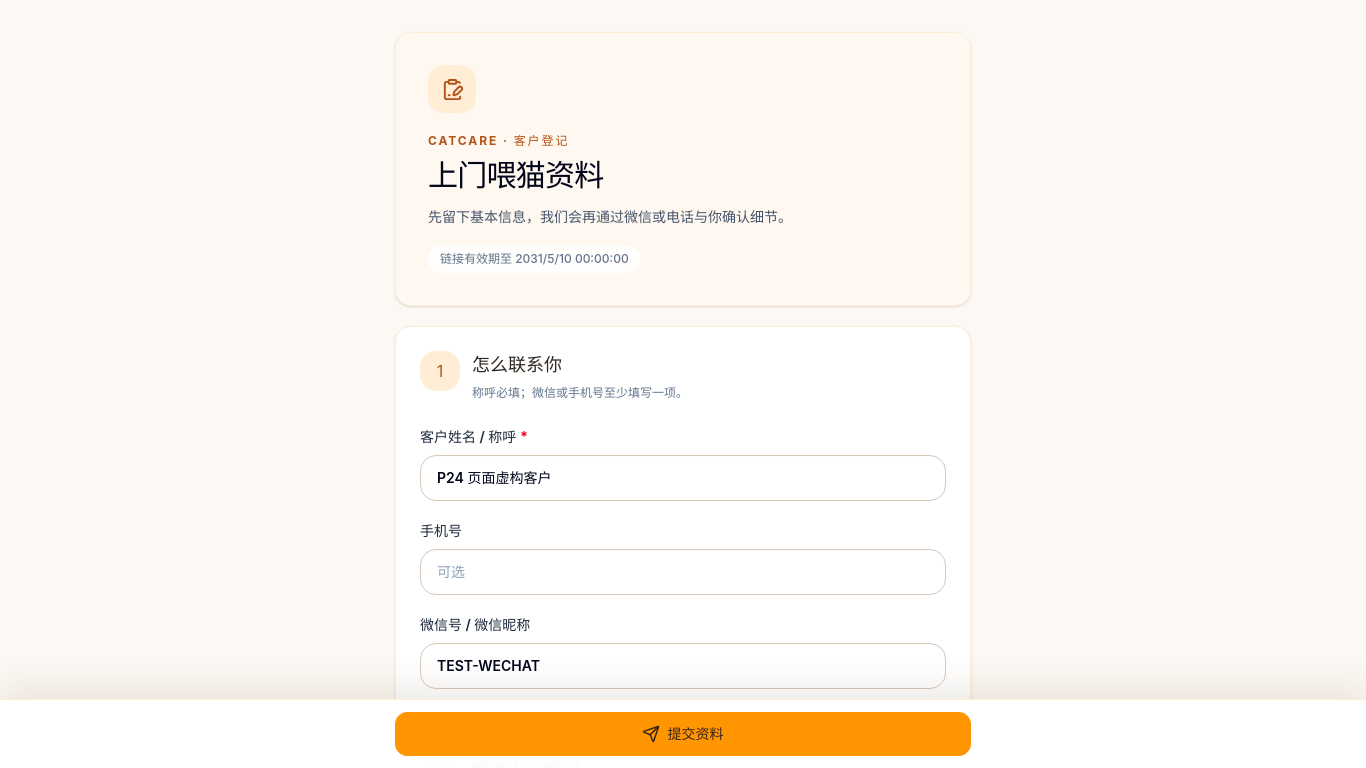
Test: preserves an untouched legacy schedule and submits only after confirmation
Expected: the field showing "P24 页面虚构客户" is shown, [420,455,946,501]
Click the button "提交资料": click(683, 734) [395,712,971,756]
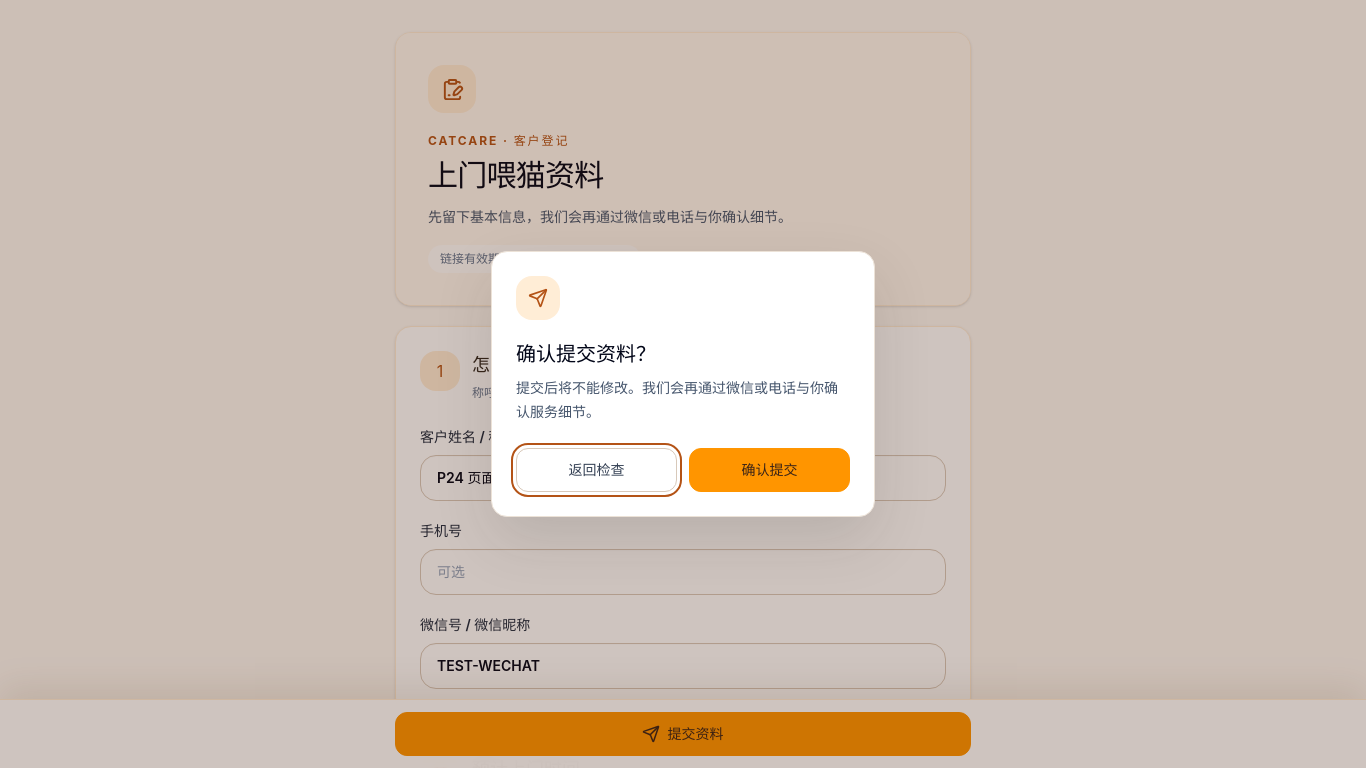
Click the button "确认提交": click(770, 470) [689,448,850,492]
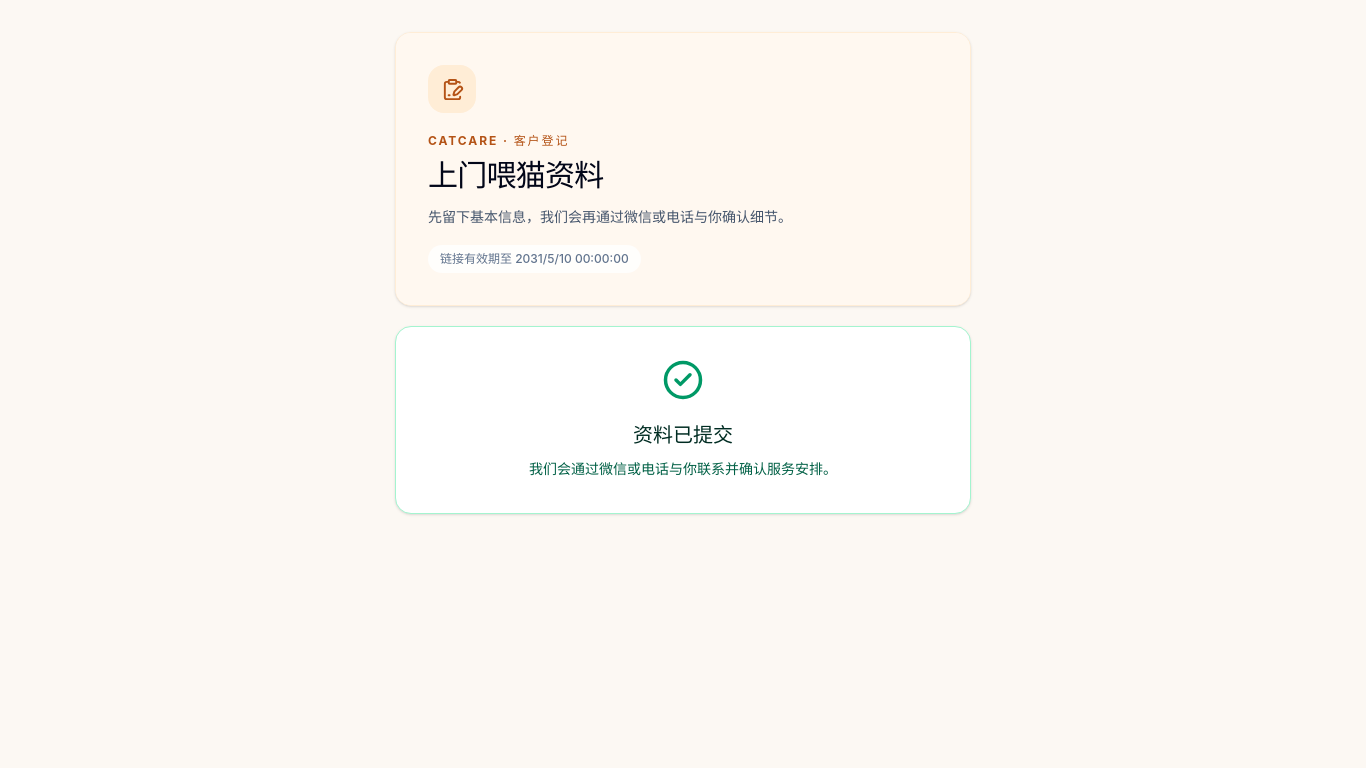
Expected: the text "先留下基本信息，我们会再通过微信或电话与你确认细节。" is shown, [428,208,792,225]
Result: the heading "资料已提交" is shown at [633,423,733,447]
